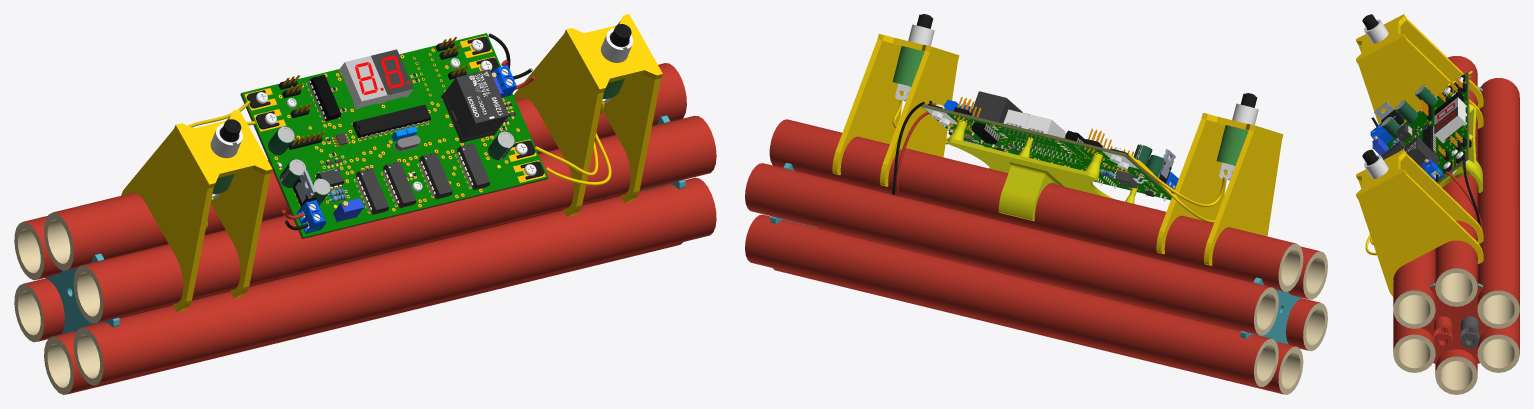
Rendered from Bomb A Completo.glb.
3 renders of one model, left to right at view 1: azimuth 30°, elevation 25°; view 2: azimuth 150°, elevation 25°; view 3: azimuth 270°, elevation 25°, orthographic. The views are drawn at different scales.
Visible parts, largest first — view 1: Solid1 (×23); view 2: Solid1 (×16); view 3: Solid1 (×30), Solid2 (×3).
Part boxes in pixels (x1=…): Solid1 (×23): x1=14, y1=14, x2=716, y2=394; Solid1 (×16): x1=745, y1=14, x2=1327, y2=394; Solid1 (×30): x1=1356, y1=14, x2=1519, y2=394; Solid2 (×3): x1=1434, y1=157, x2=1480, y2=348.
Bounding box in the file's own units: 0.3136 × 0.1354 × 0.0977.
